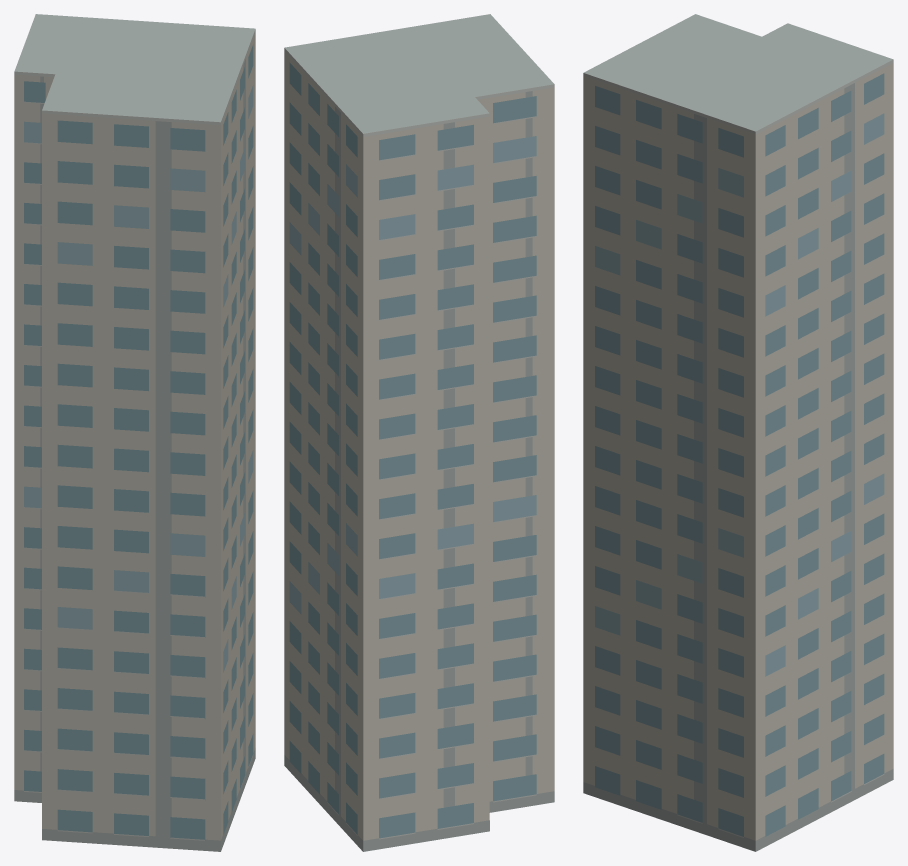
Rendered from residential-c76d7880-5c2d-46aa-8257-daf268c6b1ea.glb.
The picture shows the model from 3 angles, left to right: view 1: azimuth 30°, elevation 25°; view 2: azimuth 150°, elevation 25°; view 3: azimuth 270°, elevation 25°; orthographic projection.
Parts seen in each view (by area): view 1: residential-c76d7880-5c2d-46aa-8257-daf268c6b1ea.tmp; view 2: residential-c76d7880-5c2d-46aa-8257-daf268c6b1ea.tmp; view 3: residential-c76d7880-5c2d-46aa-8257-daf268c6b1ea.tmp.
Part boxes in pixels (<box>): residential-c76d7880-5c2d-46aa-8257-daf268c6b1ea.tmp: <box>14,14,255,851</box>; residential-c76d7880-5c2d-46aa-8257-daf268c6b1ea.tmp: <box>284,14,554,851</box>; residential-c76d7880-5c2d-46aa-8257-daf268c6b1ea.tmp: <box>583,14,893,851</box>.
Size of the model in its own units: 19.62 by 56 by 21.87.
